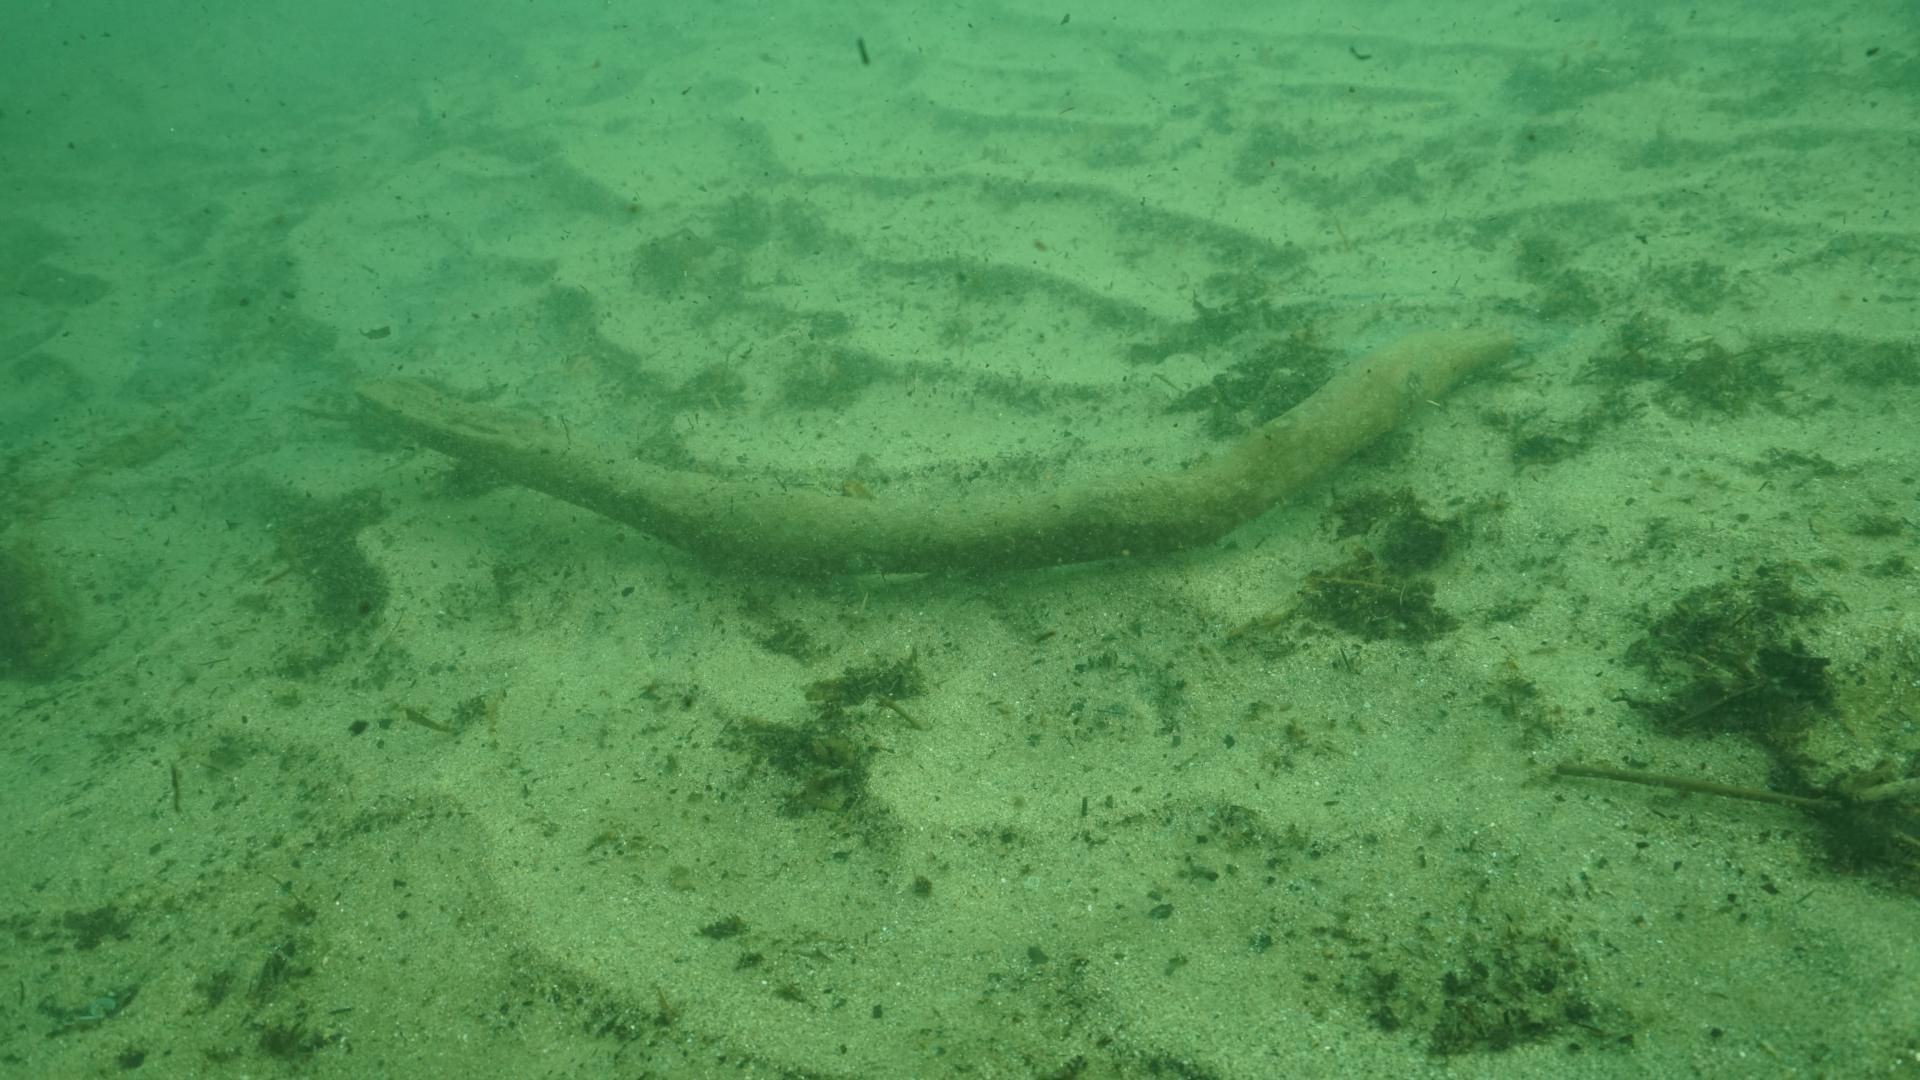wood: (349, 331, 1534, 568)
